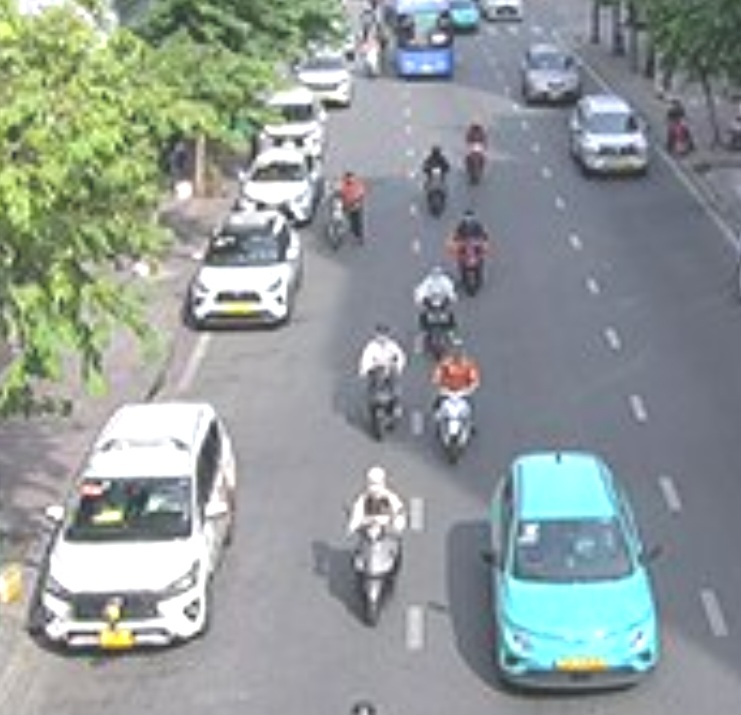car: (24, 392, 242, 659), (486, 447, 669, 691), (192, 206, 305, 324), (571, 93, 652, 184), (235, 148, 325, 219), (257, 85, 328, 151), (520, 40, 584, 104)
